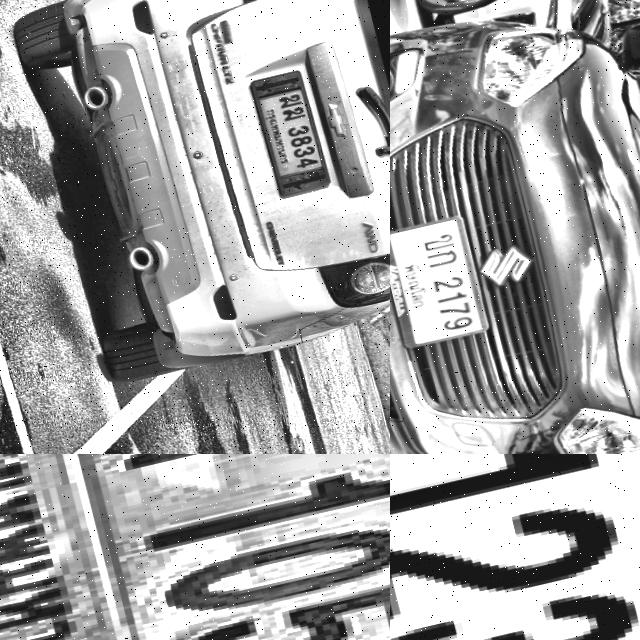license-plate: (0, 454, 390, 640), (390, 454, 640, 640), (390, 212, 492, 350), (247, 77, 327, 191), (447, 0, 486, 6)
